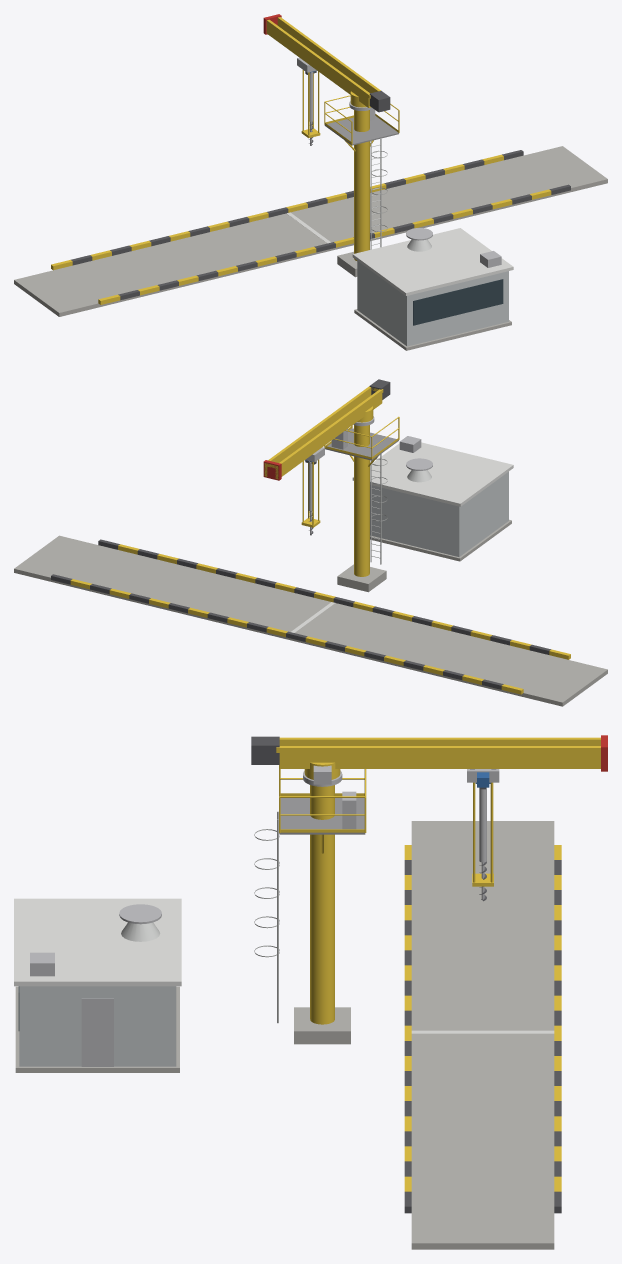
The model's file is SM_SamplingStation.fbx.
3 renders of one model, top to bottom at view 1: azimuth 30°, elevation 25°; view 2: azimuth 150°, elevation 25°; view 3: azimuth 270°, elevation 25°, orthographic. The views are drawn at different scales.
Parts seen in each view (by area): view 1: SS_Lane, SS_SampleHouse, SS_Pedestal, SS_Boom, SS_Carriage; view 2: SS_Lane, SS_SampleHouse, SS_Pedestal, SS_Boom, SS_Carriage; view 3: SS_Lane, SS_SampleHouse, SS_Boom, SS_Pedestal, SS_Carriage, SS_Probe.
Boxes of the visible parts, x1=… form: SS_Lane: x1=14, y1=146, x2=607, y2=316; SS_SampleHouse: x1=352, y1=228, x2=513, y2=350; SS_Pedestal: x1=324, y1=95, x2=399, y2=277; SS_Boom: x1=263, y1=14, x2=390, y2=112; SS_Carriage: x1=297, y1=57, x2=320, y2=138; SS_Lane: x1=14, y1=535, x2=607, y2=706; SS_SampleHouse: x1=352, y1=436, x2=513, y2=561; SS_Pedestal: x1=324, y1=416, x2=399, y2=592; SS_Boom: x1=263, y1=379, x2=390, y2=480; SS_Carriage: x1=301, y1=447, x2=324, y2=527; SS_Lane: x1=404, y1=821, x2=561, y2=1249; SS_SampleHouse: x1=14, y1=898, x2=181, y2=1072; SS_Boom: x1=251, y1=735, x2=607, y2=784; SS_Pedestal: x1=254, y1=765, x2=366, y2=1044; SS_Carriage: x1=467, y1=769, x2=499, y2=886; SS_Probe: x1=475, y1=782, x2=490, y2=901.
Bounding box in the file's own units: 2800 × 920 × 1665.
